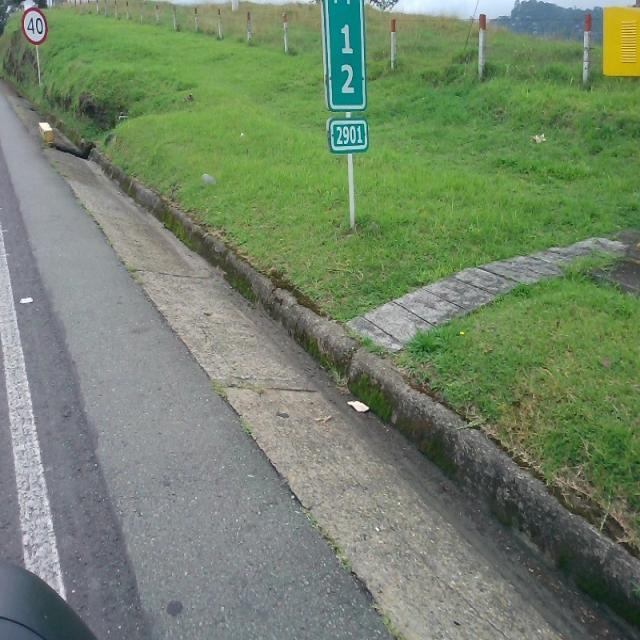DITCH: (2, 76, 638, 638), (1, 85, 638, 638)
